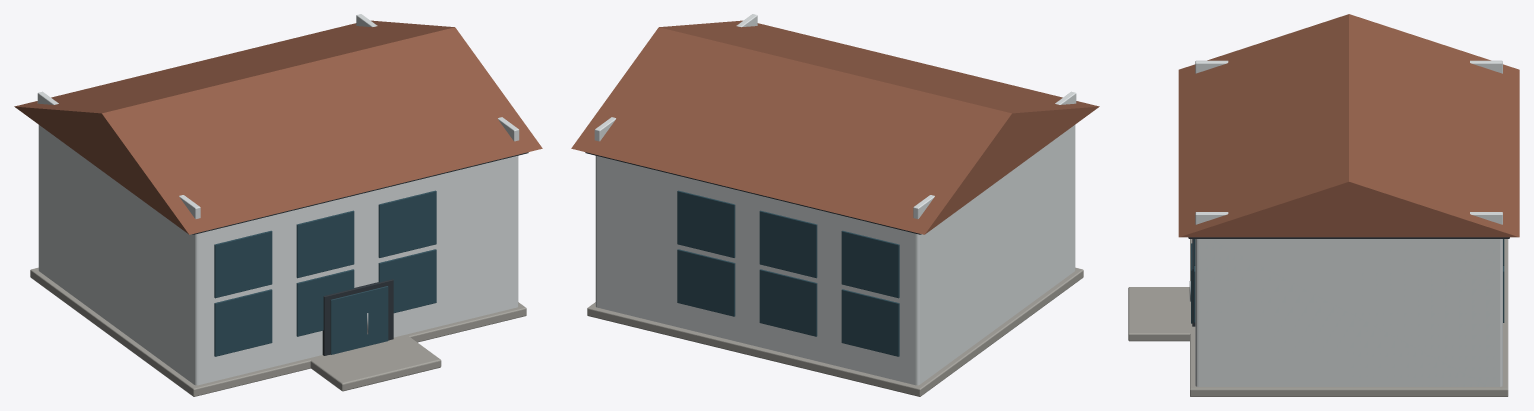
Rendered from SM_House.fbx.
3 renders of one model, left to right at view 1: azimuth 30°, elevation 25°; view 2: azimuth 150°, elevation 25°; view 3: azimuth 270°, elevation 25°, orthographic. The views are drawn at different scales.
Visible parts, largest first — view 1: SM_House; view 2: SM_House; view 3: SM_House.
Boxes of the visible parts, x1,y1,x2,y2 form: SM_House: (14, 14, 542, 396); SM_House: (571, 14, 1099, 396); SM_House: (1128, 14, 1519, 396).
Bounding box in the file's own units: 1420 × 1400 × 870.
